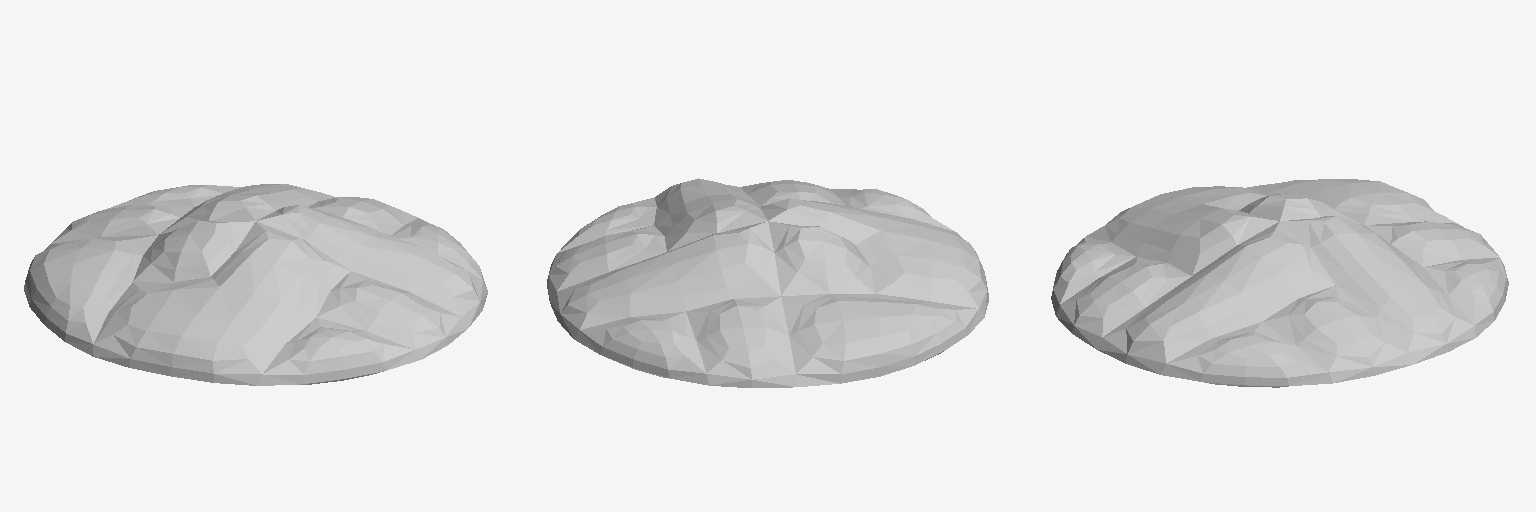
The model's file is fp_dirt.obj.
3 views of the same model, side by side, from view 1: azimuth 30°, elevation 25°; view 2: azimuth 150°, elevation 25°; view 3: azimuth 270°, elevation 25° (orthographic).
Visible parts, largest first — view 1: dirt; view 2: dirt; view 3: dirt.
Part boxes in pixels (left/top/right/bottom): dirt: left=24, top=184, right=487, bottom=385; dirt: left=547, top=178, right=988, bottom=387; dirt: left=1051, top=179, right=1508, bottom=387.
Size of the model in its own units: 26.21 by 4.99 by 26.56.